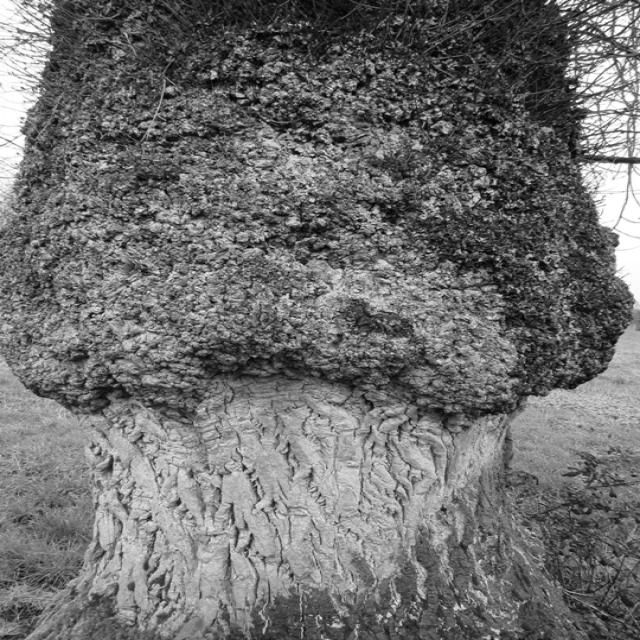Populus nigra: (14, 3, 636, 619)
